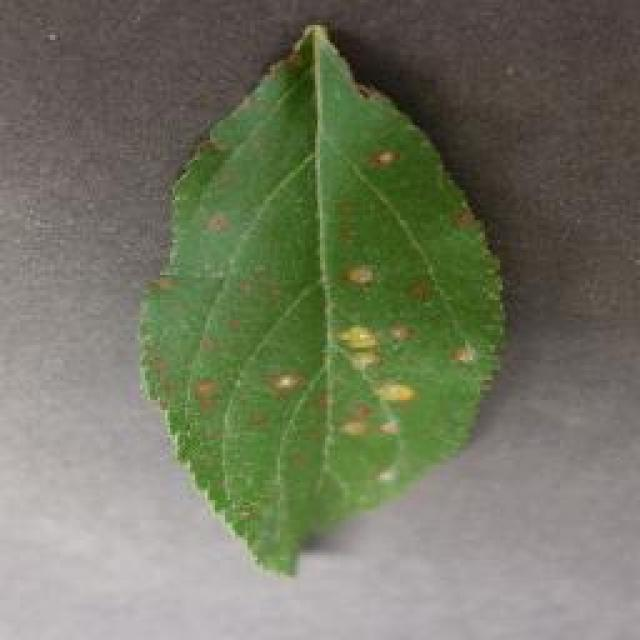apple cedar apple rust: (135, 20, 507, 578)
